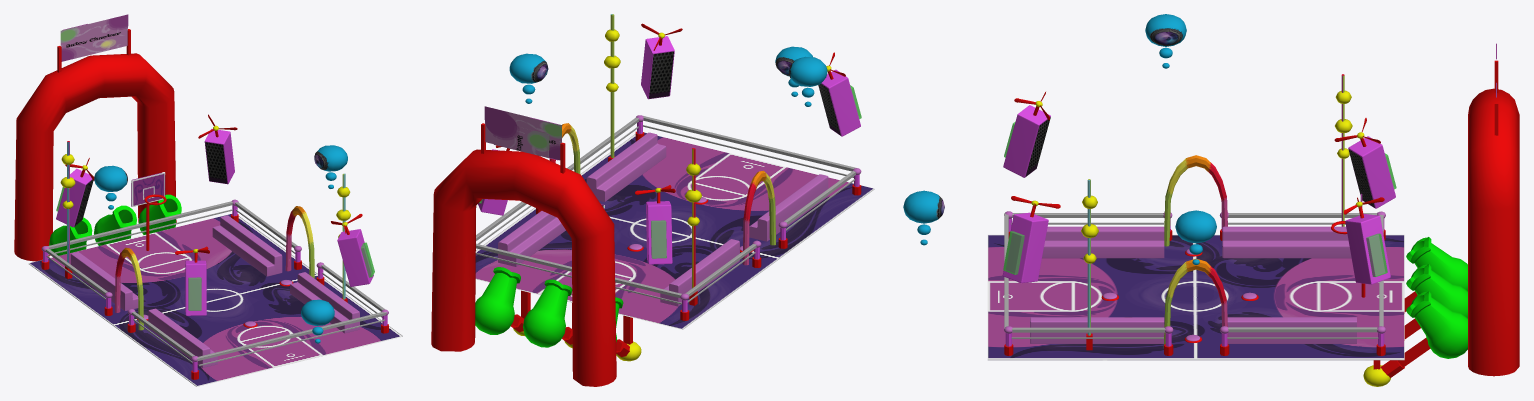
The model's file is escenario1.fbx.
3 renders of one model, left to right at view 1: azimuth 30°, elevation 25°; view 2: azimuth 150°, elevation 25°; view 3: azimuth 270°, elevation 25°, orthographic. The views are drawn at different scales.
Visible parts, largest first — view 1: Piso, Estructura_rocola, cubosonido (×4), Varillas_grandes, Cañon (×3), bolota (×3), Letrero, silla2, slla1, Varillas_pequeñas, silla3, silla4 (+4 smaller); view 2: Piso, Estructura_rocola, cubosonido (×4), Cañon (×2), Varillas_grandes, Letrero, slla1, bolota (×3), silla2, silla3, silla4, Varillas_pequeñas (+6 smaller); view 3: Piso, Estructura_rocola, cubosonido (×4), Cañon (×3), silla4, Varillas_grandes, silla3, bolota (×3), slla1, silla2, Arco1, cubeneon (×2) (+3 smaller).
Boxes of the visible parts, x1=… form: Piso: x1=28, y1=213, x2=402, y2=386; Estructura_rocola: x1=14, y1=53, x2=176, y2=261; cubosonido (×4): x1=56, y1=129, x2=373, y2=315; Varillas_grandes: x1=46, y1=201, x2=387, y2=361; Cañon (×3): x1=49, y1=194, x2=181, y2=255; bolota (×3): x1=94, y1=145, x2=347, y2=325; Letrero: x1=60, y1=14, x2=128, y2=61; silla2: x1=212, y1=215, x2=282, y2=276; slla1: x1=290, y1=272, x2=359, y2=333; Varillas_pequeñas: x1=46, y1=209, x2=385, y2=366; silla3: x1=148, y1=308, x2=217, y2=367; silla4: x1=70, y1=252, x2=138, y2=310; Piso: x1=475, y1=132, x2=874, y2=329; Estructura_rocola: x1=431, y1=149, x2=616, y2=386; cubosonido (×4): x1=478, y1=36, x2=860, y2=264; Cañon (×2): x1=475, y1=267, x2=572, y2=347; Varillas_grandes: x1=476, y1=116, x2=855, y2=298; Letrero: x1=484, y1=106, x2=561, y2=160; slla1: x1=586, y1=132, x2=666, y2=201; bolota (×3): x1=509, y1=46, x2=827, y2=86; silla2: x1=498, y1=211, x2=565, y2=266; silla3: x1=749, y1=174, x2=828, y2=241; silla4: x1=660, y1=239, x2=739, y2=306; Varillas_pequeñas: x1=475, y1=125, x2=854, y2=304; Piso: x1=987, y1=234, x2=1404, y2=360; Estructura_rocola: x1=1468, y1=88, x2=1519, y2=376; cubosonido (×4): x1=1002, y1=105, x2=1395, y2=284; Cañon (×3): x1=1406, y1=237, x2=1467, y2=358; silla4: x1=1222, y1=226, x2=1351, y2=258; Varillas_grandes: x1=1004, y1=213, x2=1383, y2=332; silla3: x1=1042, y1=226, x2=1164, y2=258; bolota (×3): x1=903, y1=14, x2=1216, y2=243; slla1: x1=1030, y1=317, x2=1164, y2=343; silla2: x1=1227, y1=317, x2=1356, y2=343; Arco1: x1=1164, y1=155, x2=1227, y2=246; cubeneon (×2): x1=1003, y1=231, x2=1387, y2=276.
Size of the model in its own units: 105 by 90.86 by 172.
13 materials, 6 textured.
